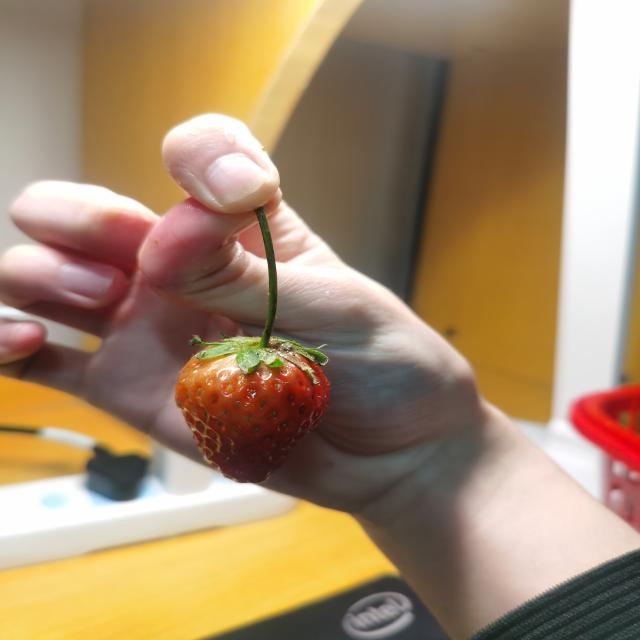stem: (257, 254, 277, 350)
strawberry: (174, 337, 330, 484)
